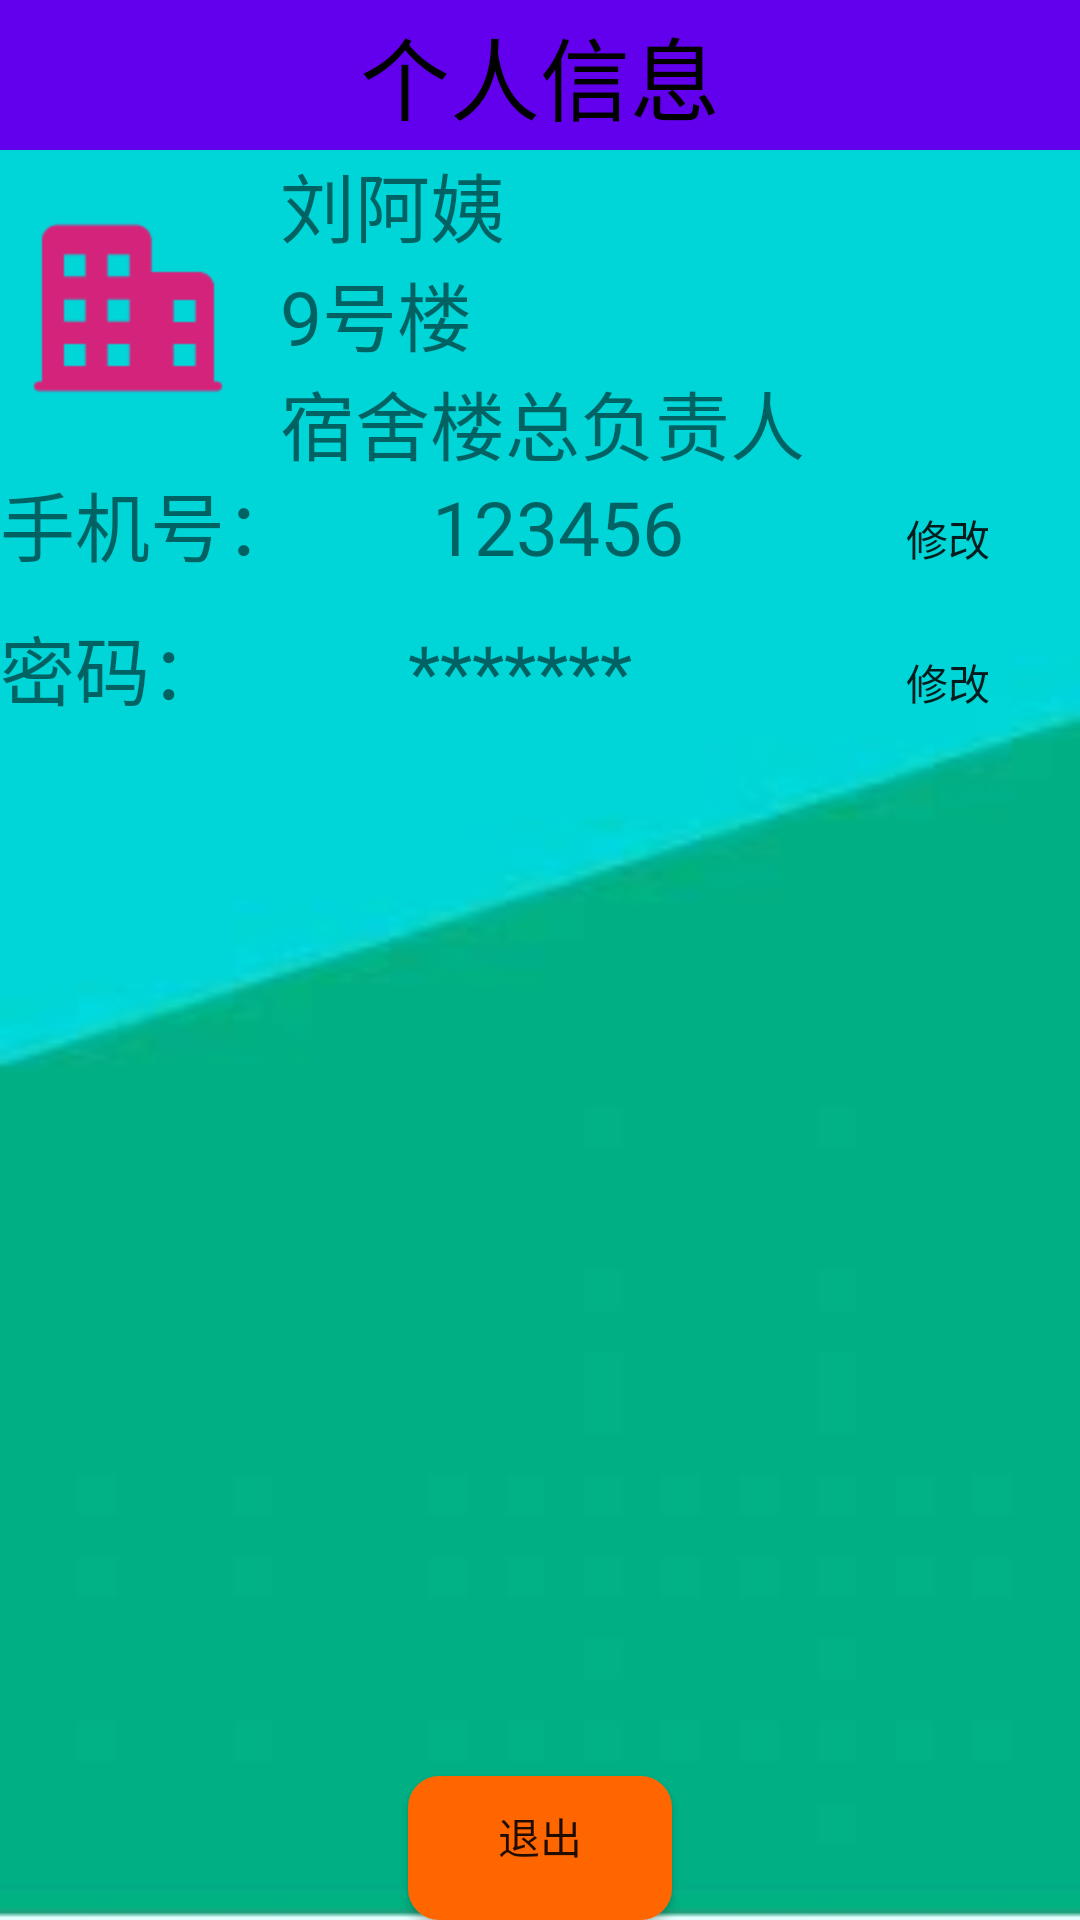

Where icons sit on this 1080px×1920px app screen, as (x1, y1, x2, y2):
dormitory: (33, 223, 223, 393)
